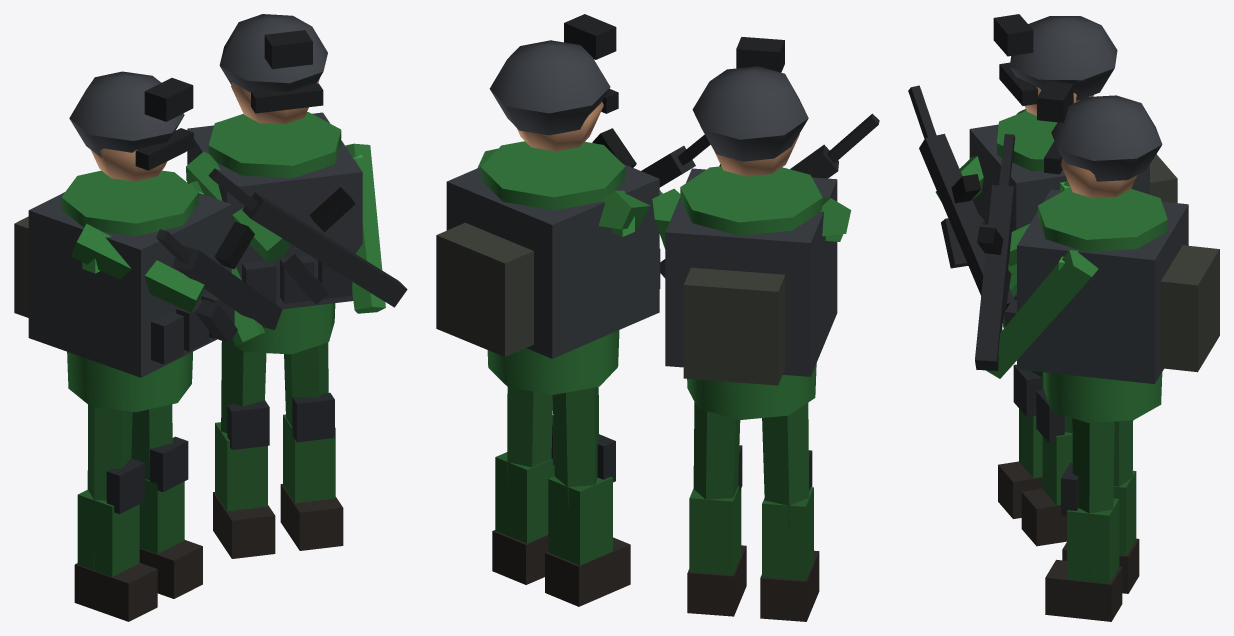
File: sentry_dl7_green.glb
3 renders of one model, left to right at view 1: azimuth 30°, elevation 25°; view 2: azimuth 150°, elevation 25°; view 3: azimuth 270°, elevation 25°, orthographic. The views are drawn at different scales.
Parts seen in each view (by area): view 1: sentry_dl7_green; view 2: sentry_dl7_green; view 3: sentry_dl7_green.
Part boxes in pixels (x1=…): sentry_dl7_green: x1=14, y1=14, x2=407, y2=621; sentry_dl7_green: x1=436, y1=14, x2=879, y2=621; sentry_dl7_green: x1=908, y1=14, x2=1219, y2=621.
Size of the model in its own units: 0.254 by 0.3838 by 0.2166.
Materials: 1 (1 with a texture image).
